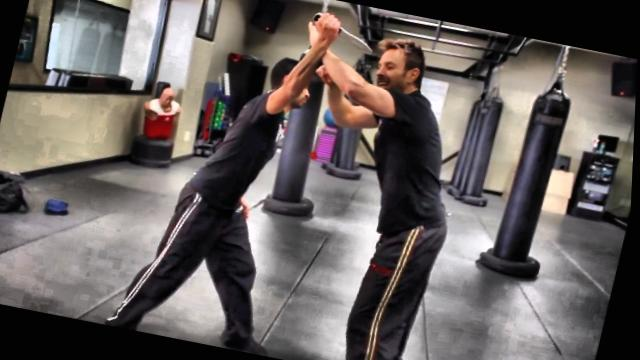knife: (305, 8, 383, 57)
